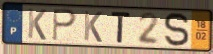2: (137, 11, 160, 47)
K: (27, 7, 48, 42), (83, 9, 104, 44)
P: (52, 7, 78, 42)
S: (163, 12, 191, 49)
T: (110, 10, 132, 45)
